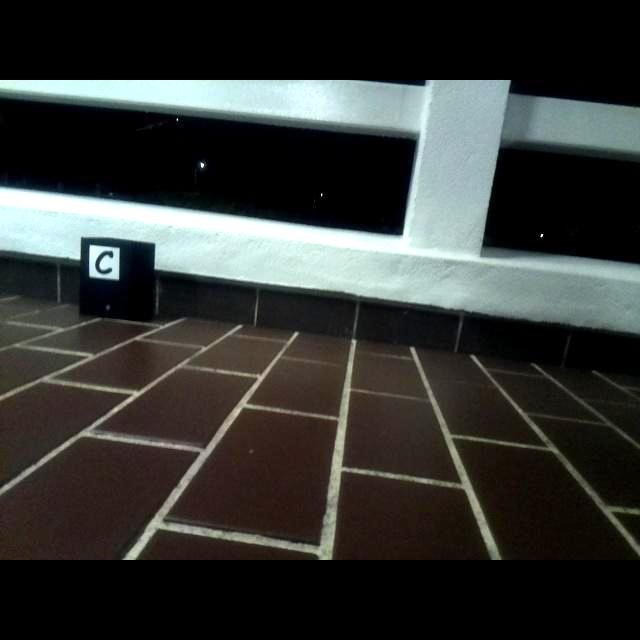C: (95, 251, 114, 276)
